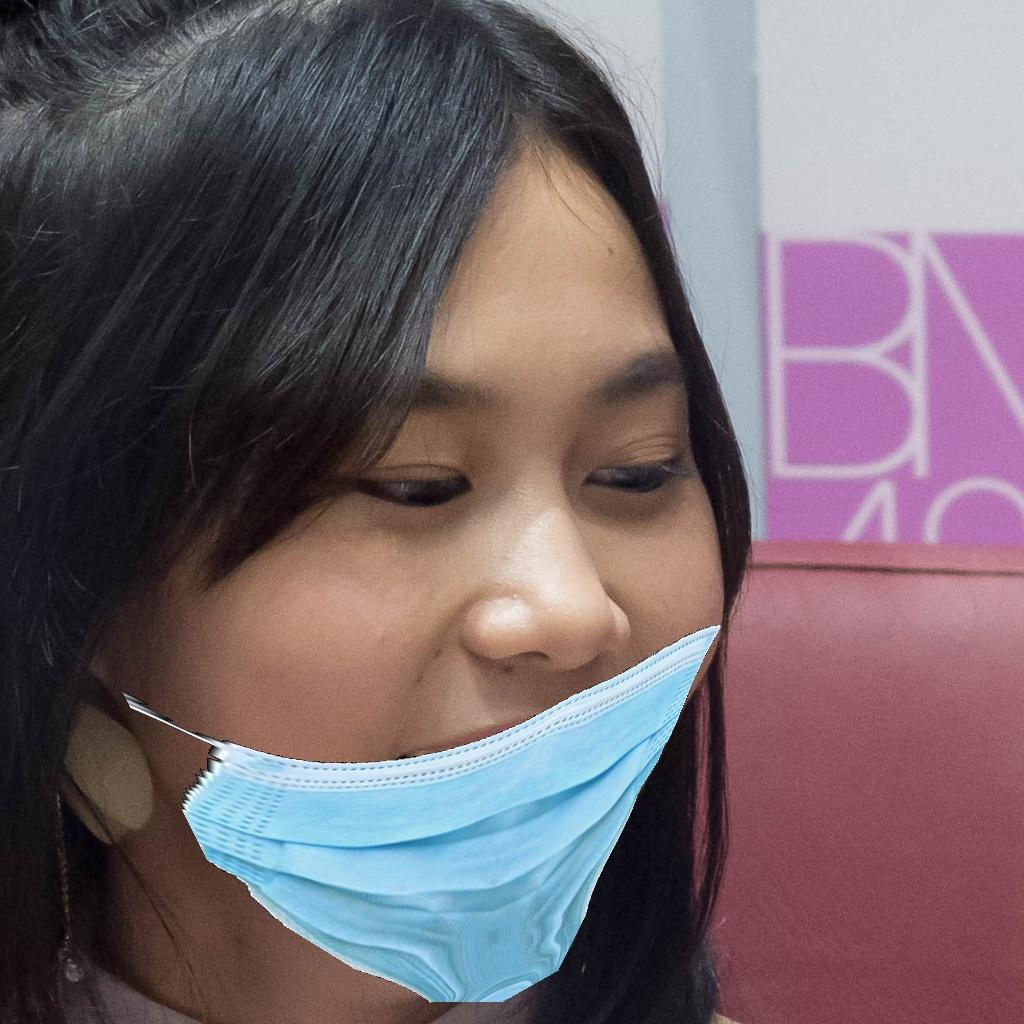Máscara Incorreta: (182, 307, 738, 970)
